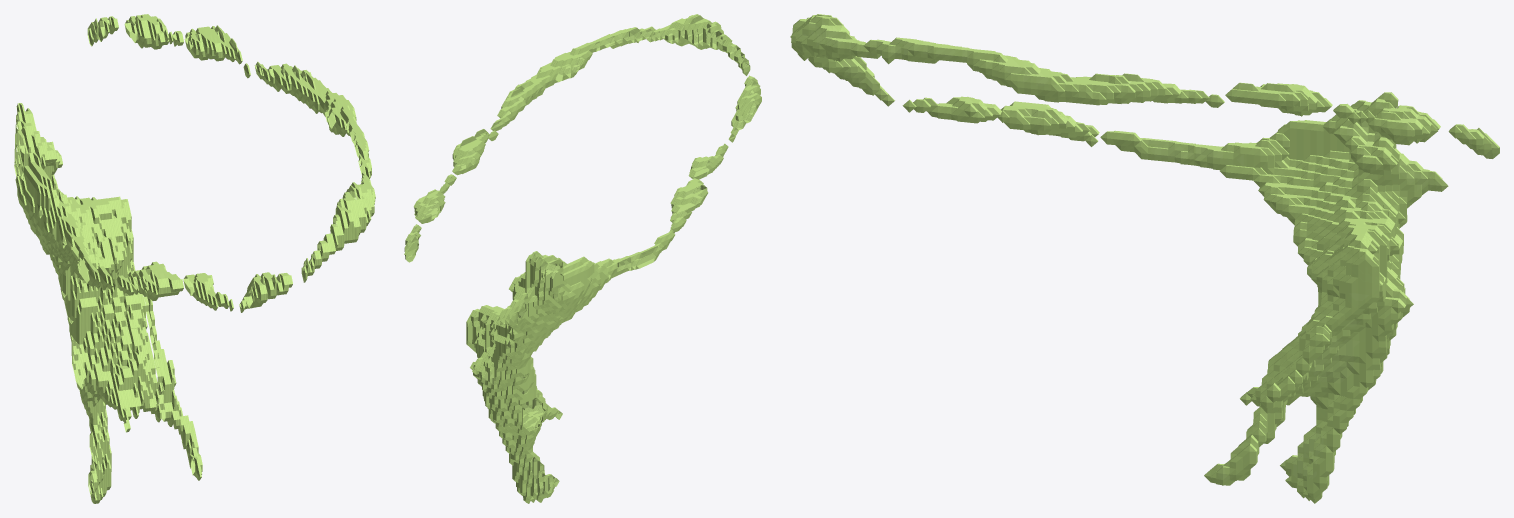
File: SVV_URADR.gltf
3 views of the same model, side by side, from view 1: azimuth 30°, elevation 25°; view 2: azimuth 150°, elevation 25°; view 3: azimuth 270°, elevation 25° (orthographic). The views are drawn at different scales.
Parts seen in each view (by area): view 1: URADR; view 2: URADR; view 3: URADR.
Boxes of the visible parts, box(x1,y1,x2,y2) form: URADR: box(14, 14, 375, 503); URADR: box(404, 14, 761, 503); URADR: box(790, 14, 1499, 503).
Size of the model in its own units: 24251 by 52119 by 67910.
